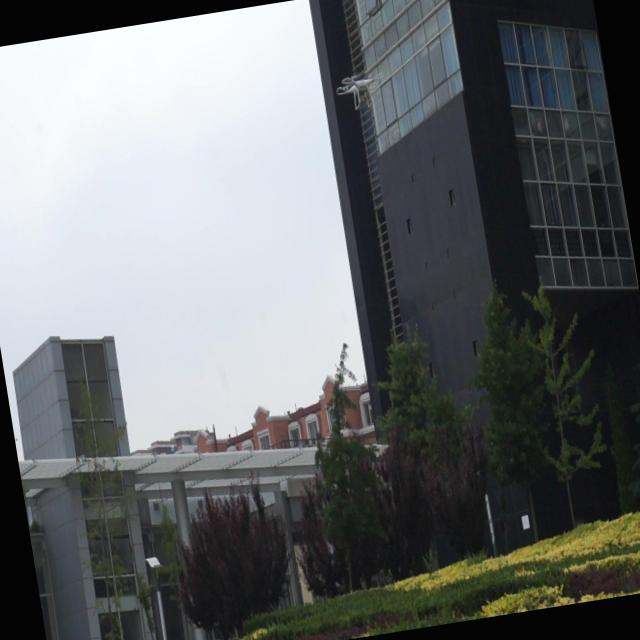drone: (330, 65, 394, 116)
